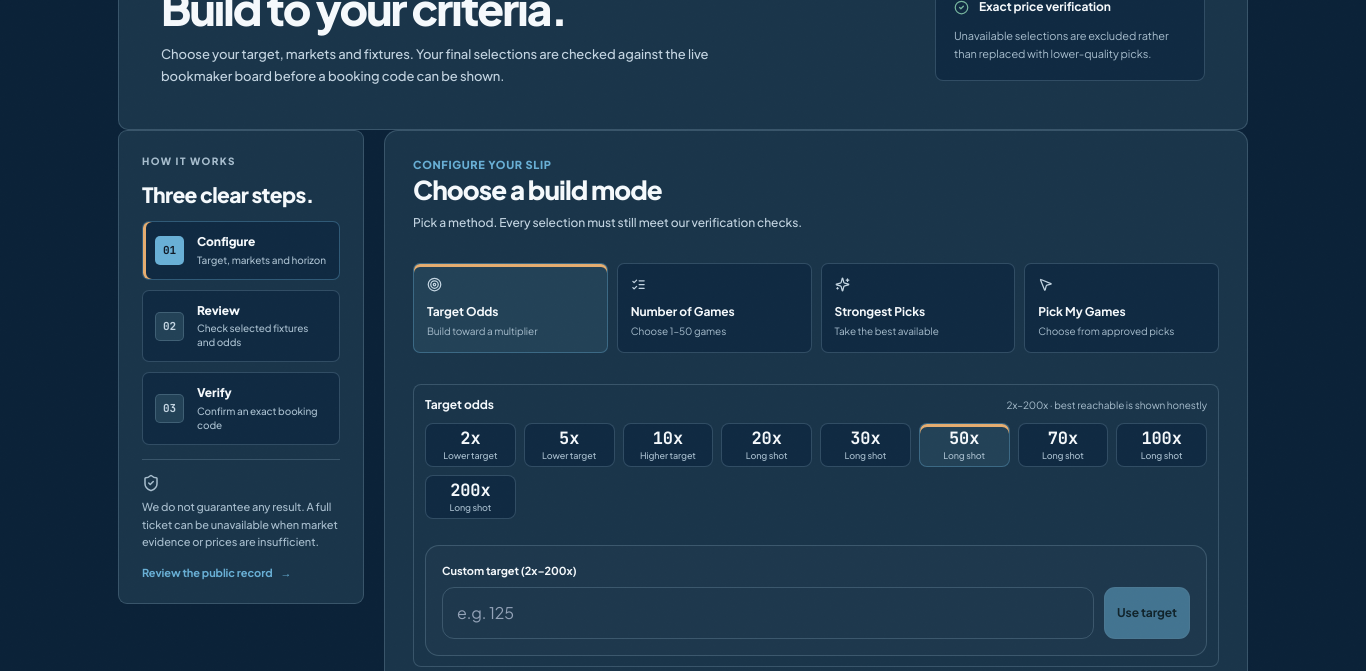
Scenario: qualifies a verified maximum when the provider board is degraded
The width and height of the screenshot is (1366, 671).
Click the button "10x Higher target": (668, 444) [622,422,713,466]
(page scrolled)
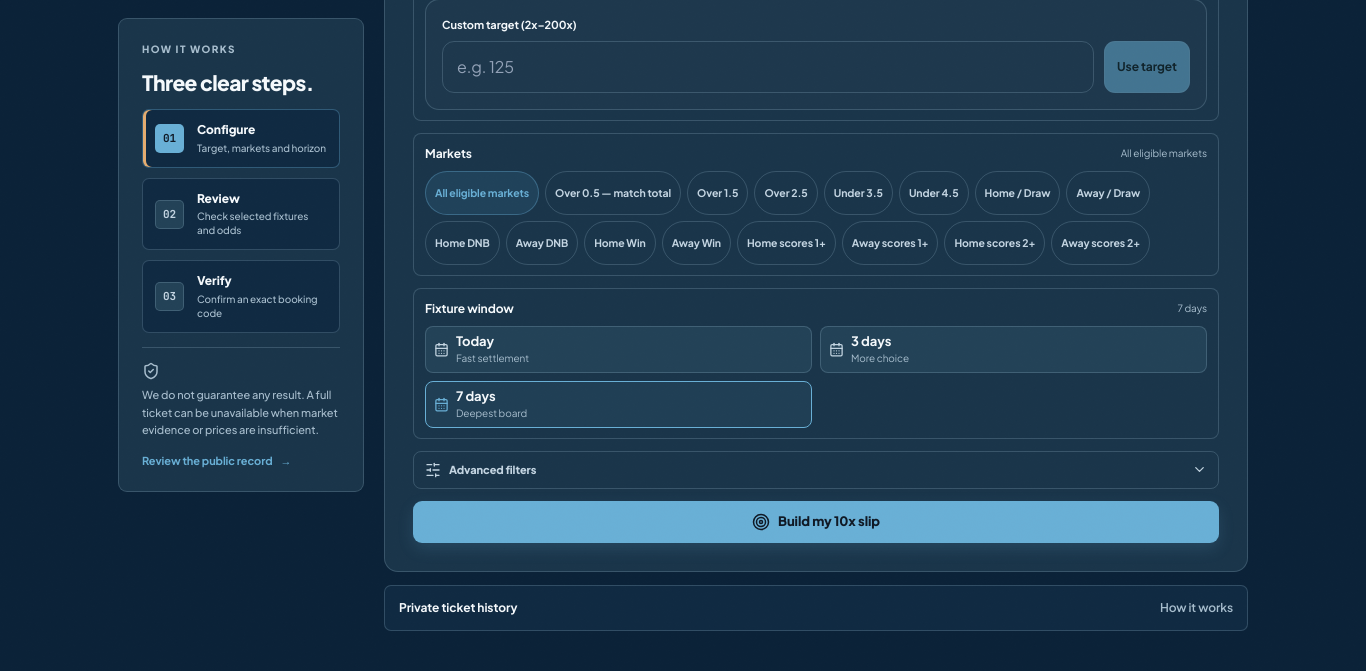
Click the button "Build my 10x slip": (816, 522) [413,500,1219,542]
(page scrolled)
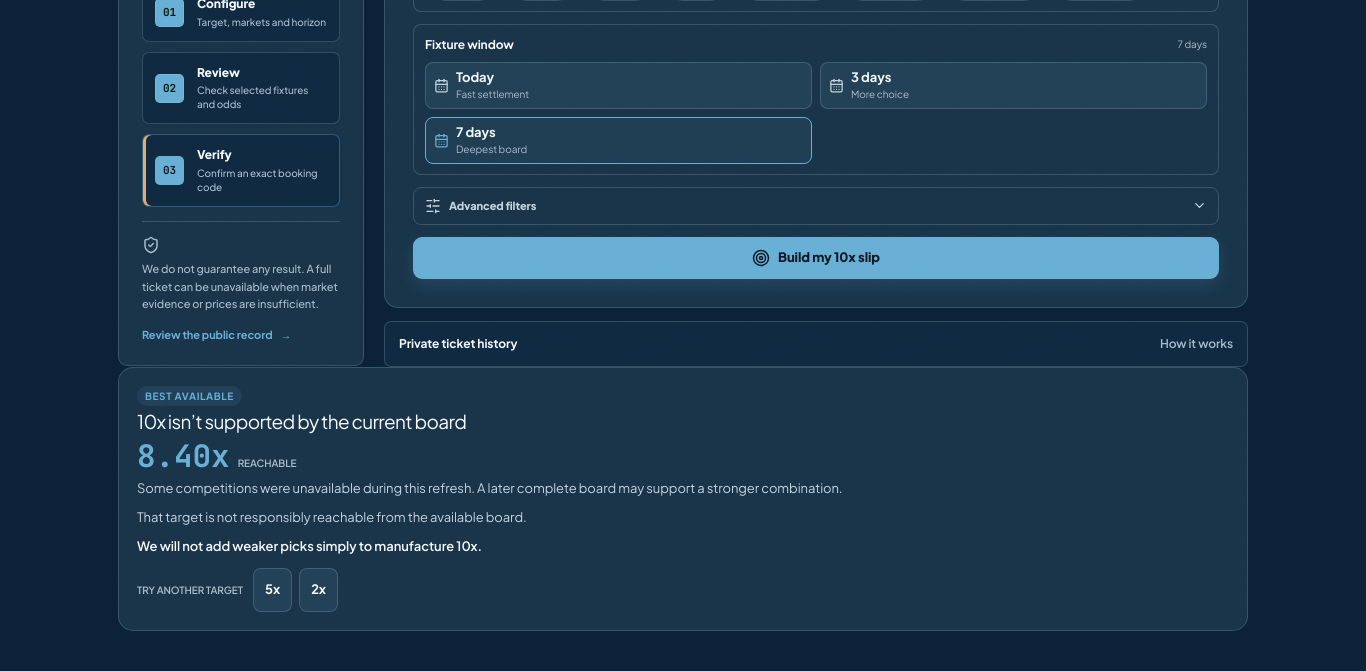
Expected: the text "reachable" is shown, [238,458,296,468]
Expected: the text "Some competitions were unavailable" is shown, [137,480,842,496]
